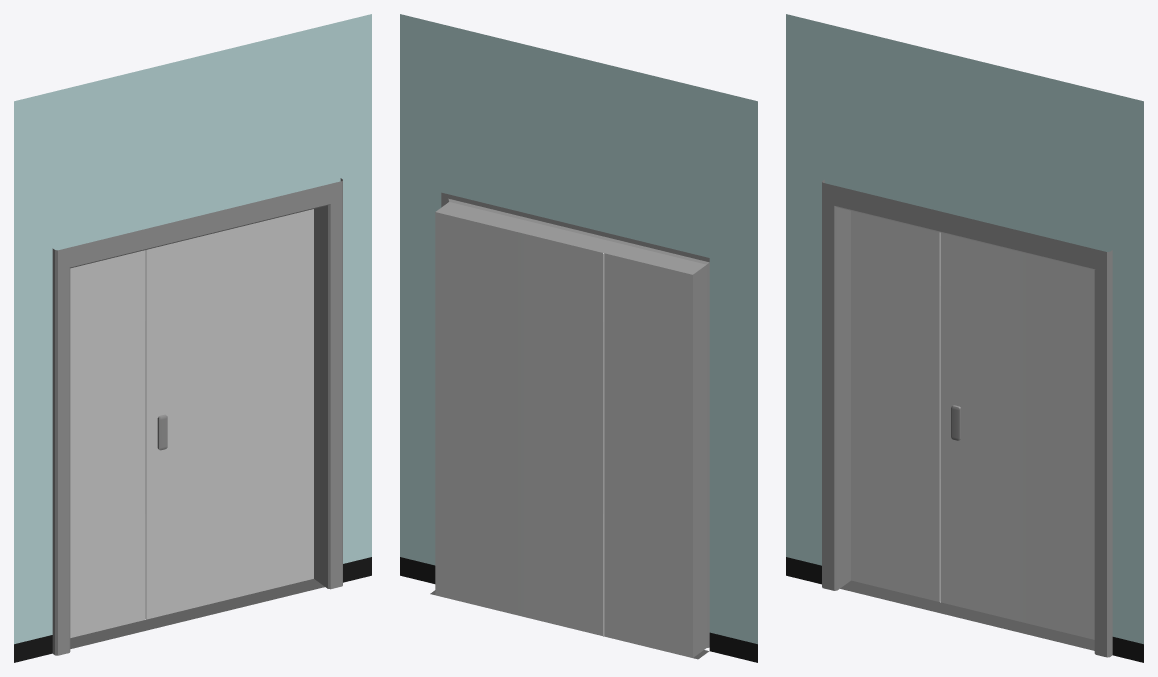
File: door_closeForever.fbx
3 renders of one model, left to right at view 1: azimuth 30°, elevation 25°; view 2: azimuth 150°, elevation 25°; view 3: azimuth 330°, elevation 25°, orthographic.
Visible parts, largest first — view 1: door_closeForever; view 2: door_closeForever; view 3: door_closeForever.
Boxes of the visible parts, x1,y1,x2,y2 form: door_closeForever: [14, 14, 371, 662]; door_closeForever: [400, 14, 757, 662]; door_closeForever: [786, 14, 1143, 662].
Size of what is drawn, in the model's own units: 200 by 300 by 15.22.
